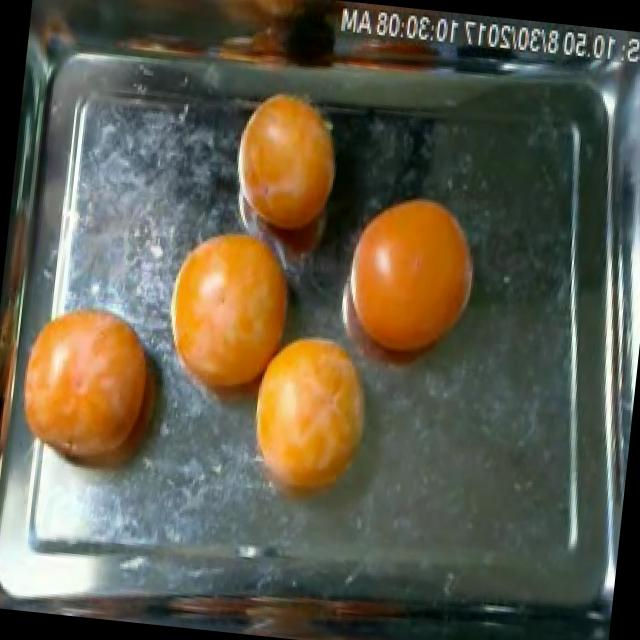Fruit: (8, 282, 190, 509), (156, 204, 316, 424), (233, 308, 392, 528), (337, 172, 497, 386), (213, 79, 360, 258)
